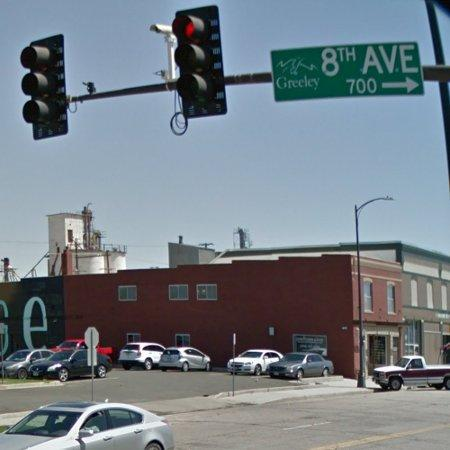traffic lights: (173, 5, 227, 117)
